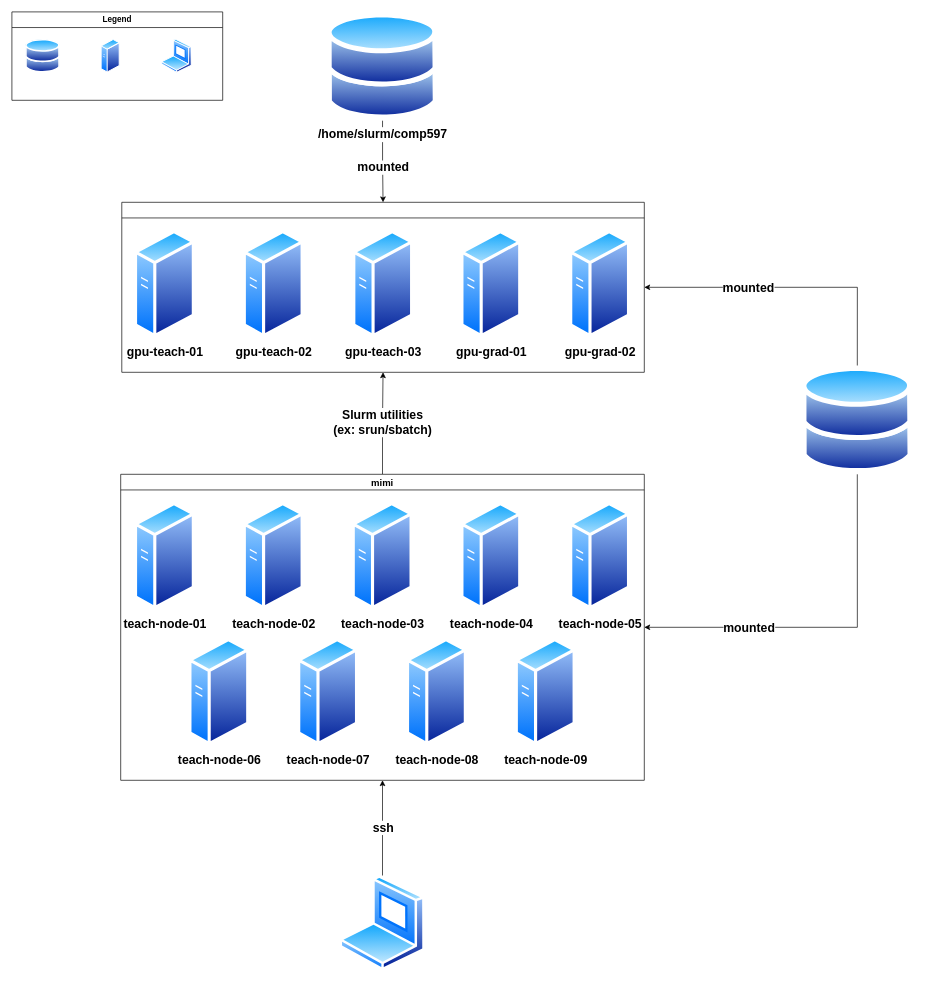
This 925x1004 diagram has some shape labels left out. Here are the shapes that lost their labels. From the top down, the box of each, then its label:
(25, 39, 60, 73): disk storage
(101, 39, 120, 73): server
(161, 39, 192, 73): personal computer
(121, 202, 644, 372): Slurm nodes
(801, 365, 912, 474): ${HOME}
(339, 875, 425, 970): student computer
